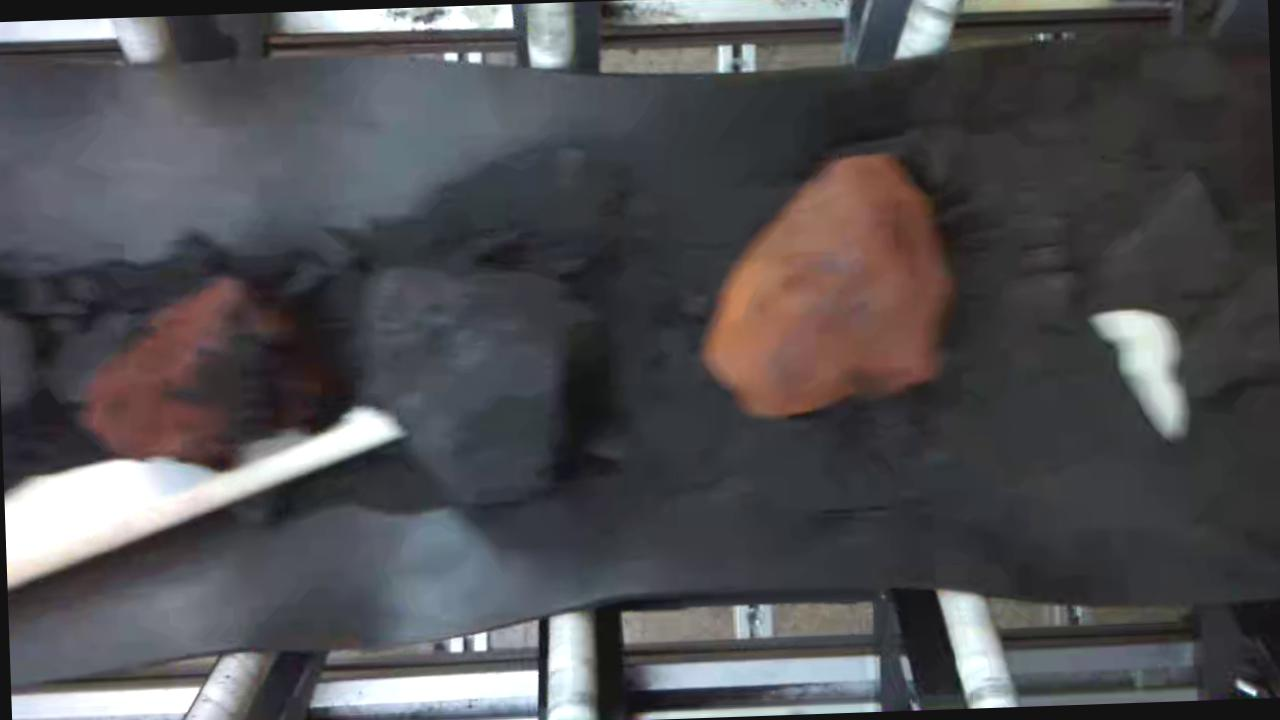conveyor: (0, 58, 1280, 623)
